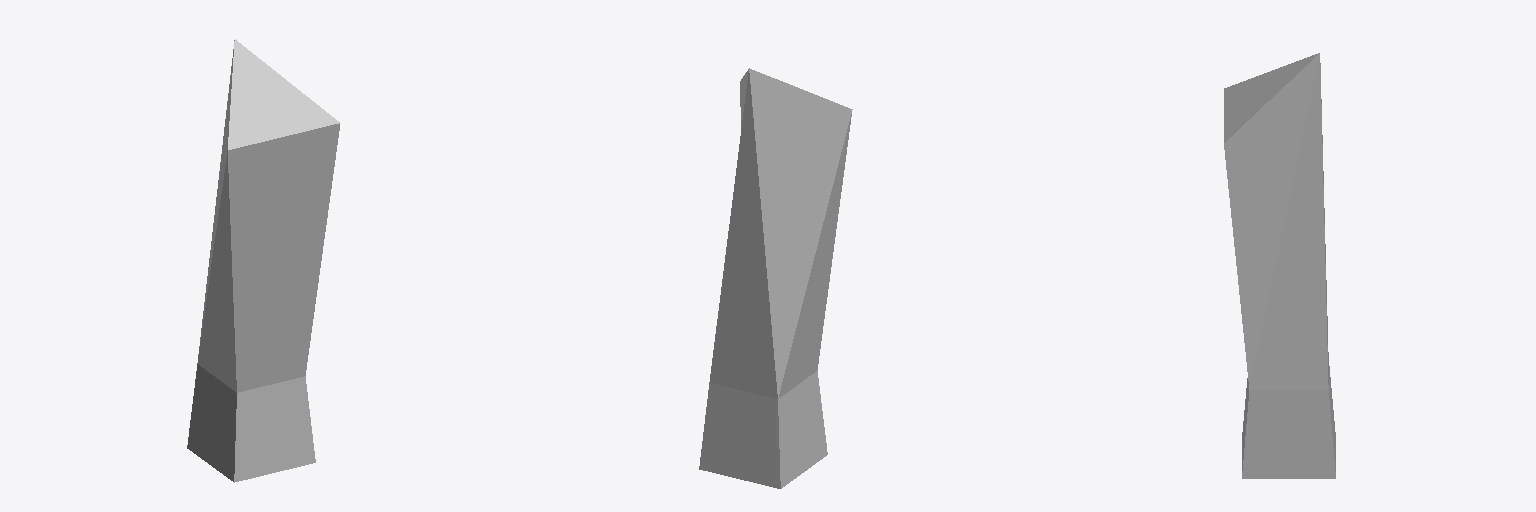
File: Building4.obj
3 views of the same model, side by side, from view 1: azimuth 30°, elevation 25°; view 2: azimuth 150°, elevation 25°; view 3: azimuth 270°, elevation 25° (orthographic).
Visible parts, largest first — view 1: Cube; view 2: Cube; view 3: Cube.
Part boxes in pixels (x1,y1,x2,y2): Cube: (187,39,339,482); Cube: (699,68,852,488); Cube: (1224,53,1335,478).
Size of the model in its own units: 2.77 by 9.49 by 2.38.